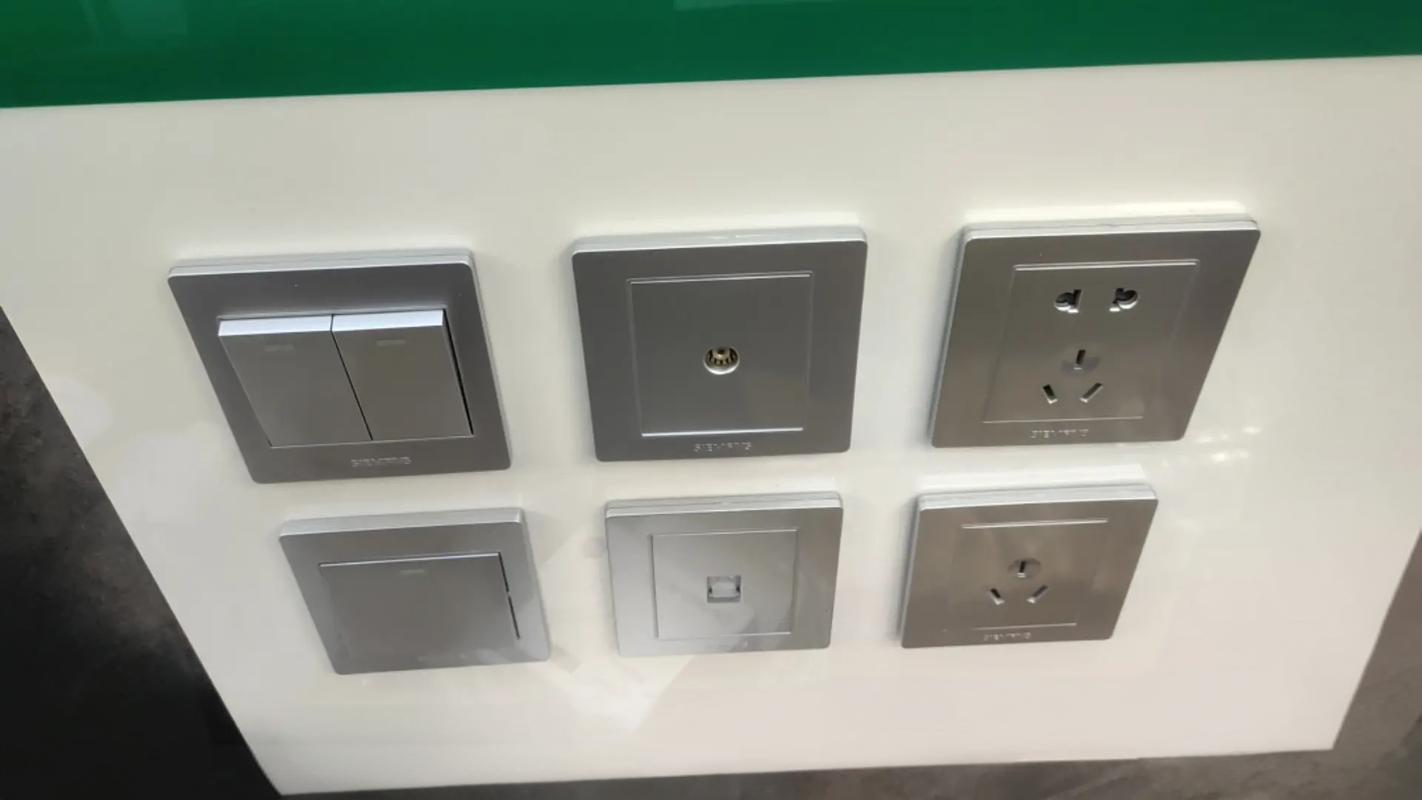button: (162, 248, 515, 487), (273, 505, 556, 677)
